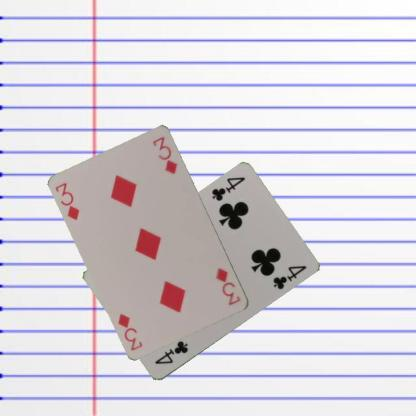3d: (52, 180, 82, 222), (213, 264, 242, 306)
4c: (209, 174, 246, 203), (152, 338, 189, 366)
